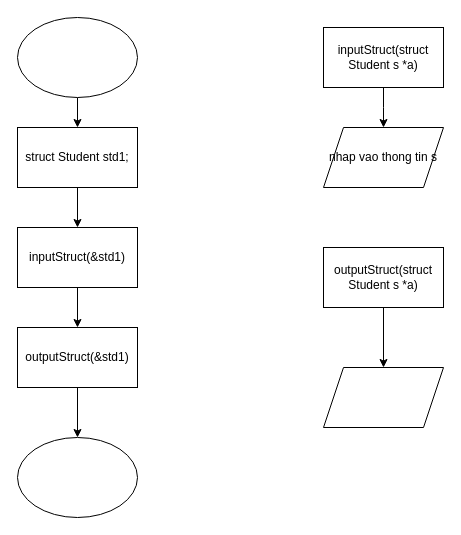
The diagram is 461 pixels wide and 535 high, and some of its shapes have lost their labels. Here are the shapes that lost their labels. From the top down, the box of each, then its label:
(16, 16, 138, 98): start
(322, 366, 444, 428): in ra thong tin s
(16, 436, 138, 518): end
